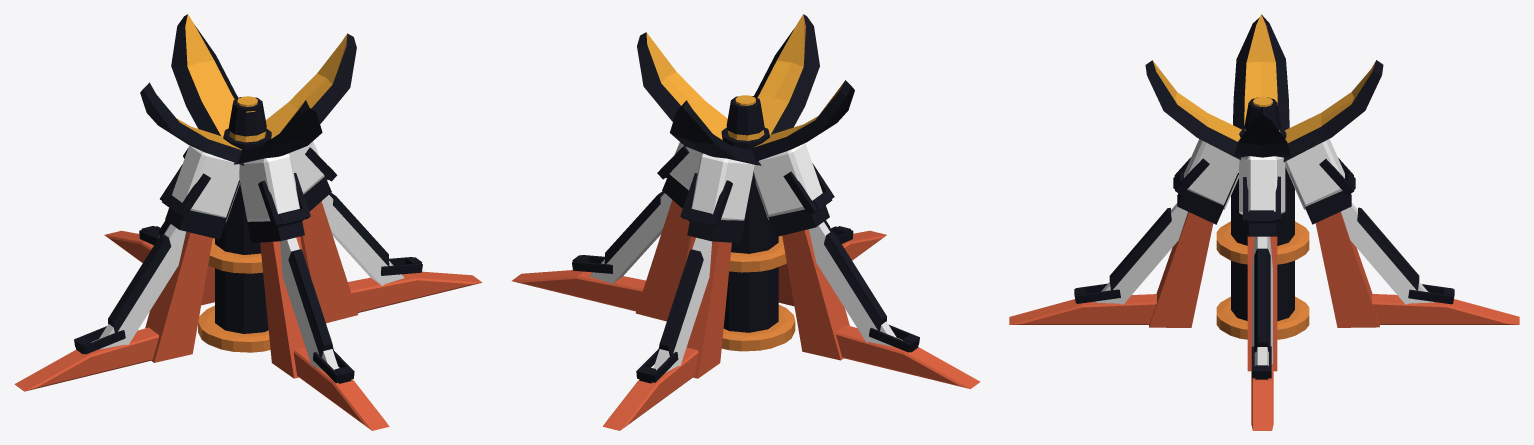
Rendered from Flag.fbx.
3 views of the same model, side by side, from view 1: azimuth 30°, elevation 25°; view 2: azimuth 150°, elevation 25°; view 3: azimuth 270°, elevation 25° (orthographic). The views are drawn at different scales.
Visible parts, largest first — view 1: 立方体.080, 立方体.065, 柱体.016, 立方体.071, 立方体.054, 立方体.078, 立方体.074, 立方体.081, 立方体.069, 立方体.053, 立方体.056, 立方体.077 (+20 smaller); view 2: 立方体.080, 柱体.016, 立方体.051, 立方体.071, 立方体.062, 立方体.078, 立方体.074, 立方体.081, 立方体.069, 立方体.063, 立方体.060, 立方体.083 (+22 smaller); view 3: 立方体.062, 立方体.054, 立方体.083, 柱体.016, 立方体.060, 立方体.056, 立方体.065, 立方体.051, 立方体.063, 立方体.072, 立方体.053, 立方体.057 (+19 smaller).
Part boxes in pixels (left/top/right/bottom): 立方体.080: left=145, top=231, right=212, bottom=362; 立方体.065: left=171, top=14, right=238, bottom=136; 柱体.016: left=215, top=184, right=268, bottom=333; 立方体.071: left=300, top=201, right=358, bottom=323; 立方体.054: left=260, top=236, right=305, bottom=378; 立方体.078: left=14, top=327, right=158, bottom=391; 立方体.074: left=265, top=33, right=356, bottom=138; 立方体.081: left=172, top=145, right=239, bottom=221; 立方体.069: left=348, top=271, right=482, bottom=312; 立方体.053: left=239, top=153, right=299, bottom=221; 立方体.056: left=293, top=347, right=389, bottom=430; 立方体.077: left=99, top=224, right=185, bottom=349; 立方体.080: left=782, top=229, right=849, bottom=360; 柱体.016: left=723, top=171, right=778, bottom=332; 立方体.051: left=754, top=14, right=819, bottom=134; 立方体.071: left=635, top=200, right=691, bottom=321; 立方体.062: left=686, top=236, right=731, bottom=378; 立方体.078: left=836, top=325, right=980, bottom=388; 立方体.074: left=637, top=32, right=727, bottom=139; 立方体.081: left=754, top=143, right=822, bottom=219; 立方体.069: left=512, top=270, right=645, bottom=311; 立方体.063: left=691, top=153, right=754, bottom=220; 立方体.060: left=603, top=347, right=698, bottom=430; 立方体.083: left=751, top=80, right=854, bottom=161; 立方体.062: left=1315, top=211, right=1379, bottom=327; 立方体.054: left=1149, top=212, right=1213, bottom=327; 立方体.083: left=1233, top=14, right=1289, bottom=130; 柱体.016: left=1231, top=167, right=1294, bottom=321; 立方体.060: left=1372, top=294, right=1519, bottom=324; 立方体.056: left=1009, top=294, right=1156, bottom=324; 立方体.065: left=1283, top=60, right=1383, bottom=161; 立方体.051: left=1145, top=60, right=1241, bottom=160; 立方体.063: left=1285, top=139, right=1344, bottom=209; 立方体.072: left=1239, top=156, right=1285, bottom=214; 立方体.053: left=1184, top=139, right=1239, bottom=209; 立方体.057: left=1095, top=203, right=1187, bottom=304.
Size of the model in its own units: 4468 by 2580 by 4517.
